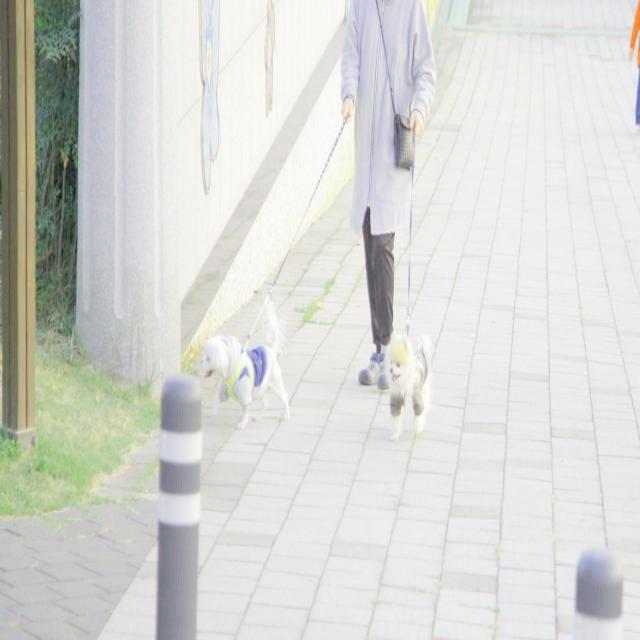Leashed_Dog: (201, 107, 373, 432), (384, 107, 433, 443)
